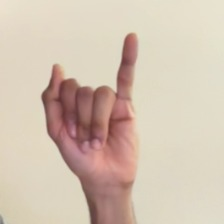I: (37, 20, 163, 203)
